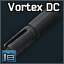M14 Smith Enterprise Vortex 7.62x51 muzzle brake & compensator: (0, 0, 64, 64)
